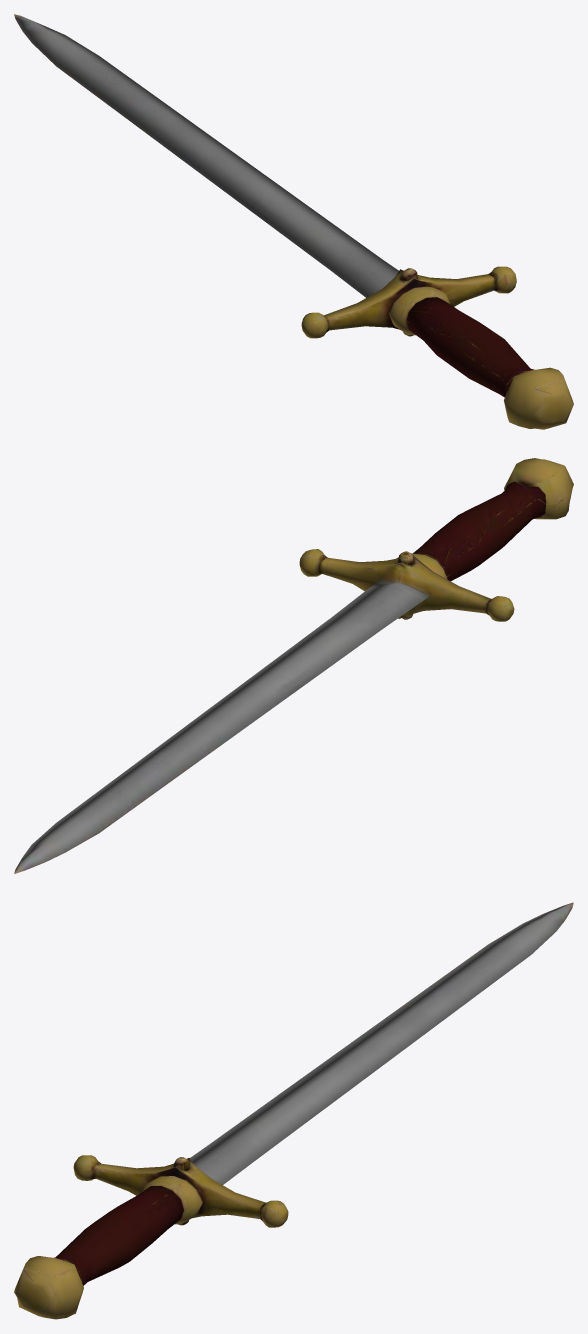
Rendered from short_sword.fbx.
3 renders of one model, top to bottom at view 1: azimuth 30°, elevation 25°; view 2: azimuth 150°, elevation 25°; view 3: azimuth 330°, elevation 25°, orthographic.
Parts seen in each view (by area): view 1: tripo_node_8127fff1-738b-4d5c-8e12-5d2739255335; view 2: tripo_node_8127fff1-738b-4d5c-8e12-5d2739255335; view 3: tripo_node_8127fff1-738b-4d5c-8e12-5d2739255335.
Boxes of the visible parts, left/top/right/bottom form: tripo_node_8127fff1-738b-4d5c-8e12-5d2739255335: left=14, top=14, right=573, bottom=429; tripo_node_8127fff1-738b-4d5c-8e12-5d2739255335: left=14, top=458, right=573, bottom=873; tripo_node_8127fff1-738b-4d5c-8e12-5d2739255335: left=14, top=902, right=573, bottom=1319.
Size of the model in its own units: 0.2377 by 0.0717 by 1.06.
Materials: 1 (1 with a texture image).
